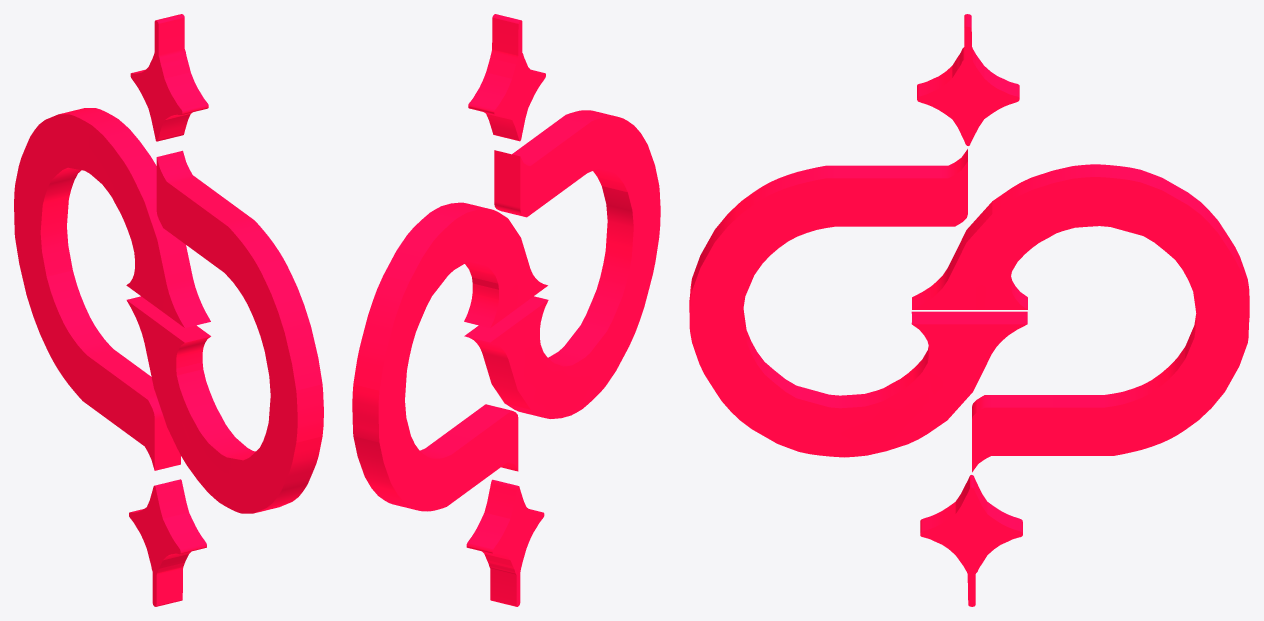
The model's file is Clovis_Symbol.fbx.
The picture shows the model from 3 angles, left to right: view 1: azimuth 30°, elevation 25°; view 2: azimuth 150°, elevation 25°; view 3: azimuth 270°, elevation 25°; orthographic projection.
Visible parts, largest first — view 1: Left_C, Right_C, Bottom_Star, Top_Star; view 2: Right_C, Left_C, Bottom_Star, Top_Star; view 3: Left_C, Right_C, Bottom_Star, Top_Star.
Part boxes in pixels (x1,y1,x2,y2): Left_C: [126, 150, 323, 513]; Right_C: [14, 108, 210, 470]; Bottom_Star: [129, 479, 206, 606]; Top_Star: [130, 14, 208, 141]; Right_C: [352, 202, 547, 511]; Left_C: [464, 110, 660, 418]; Bottom_Star: [466, 479, 544, 606]; Top_Star: [468, 14, 545, 141]; Left_C: [689, 149, 1027, 457]; Right_C: [912, 164, 1249, 472]; Bottom_Star: [920, 475, 1022, 606]; Top_Star: [917, 14, 1019, 145].
Size of the model in its own units: 0.4644 by 9.83 by 8.6.
